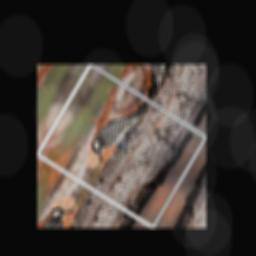Woodpecker: (81, 86, 161, 177)
